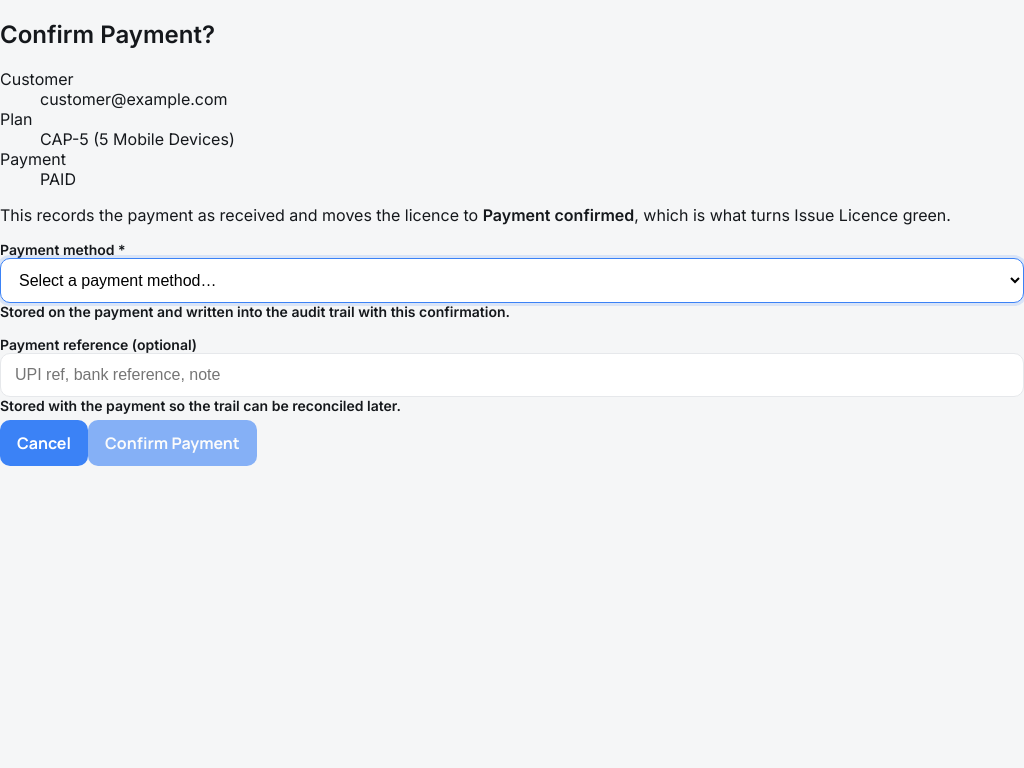
Scenario: Confirm Payment arms only after a method is chosen › keeps the reference optional, so it alone can never block a confirmation
Select "Cash" in the dropdown at (512, 280), box left=0, top=258, right=1023, bottom=303
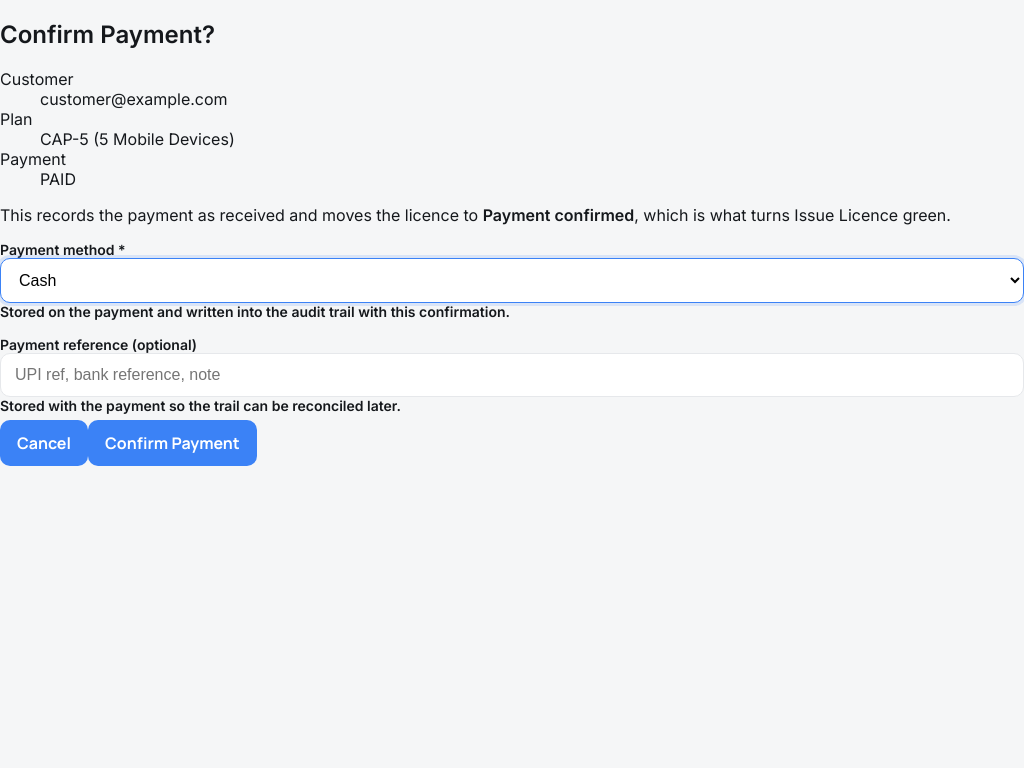
Expected: the field labelled "Payment reference" is empty, left=0, top=353, right=1023, bottom=397
Now the button "Confirm Payment" is enabled, box left=88, top=420, right=257, bottom=466
